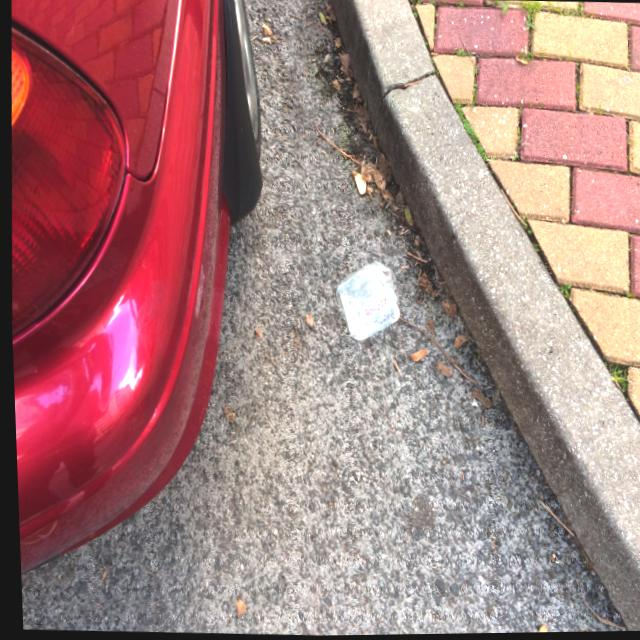Plastic: (326, 254, 404, 344)
